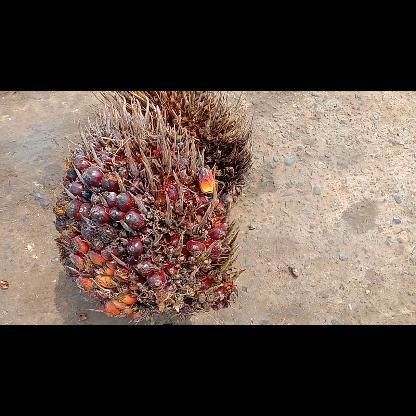Janjang kosong: (118, 90, 254, 188)
TBS masak: (54, 94, 244, 320)
